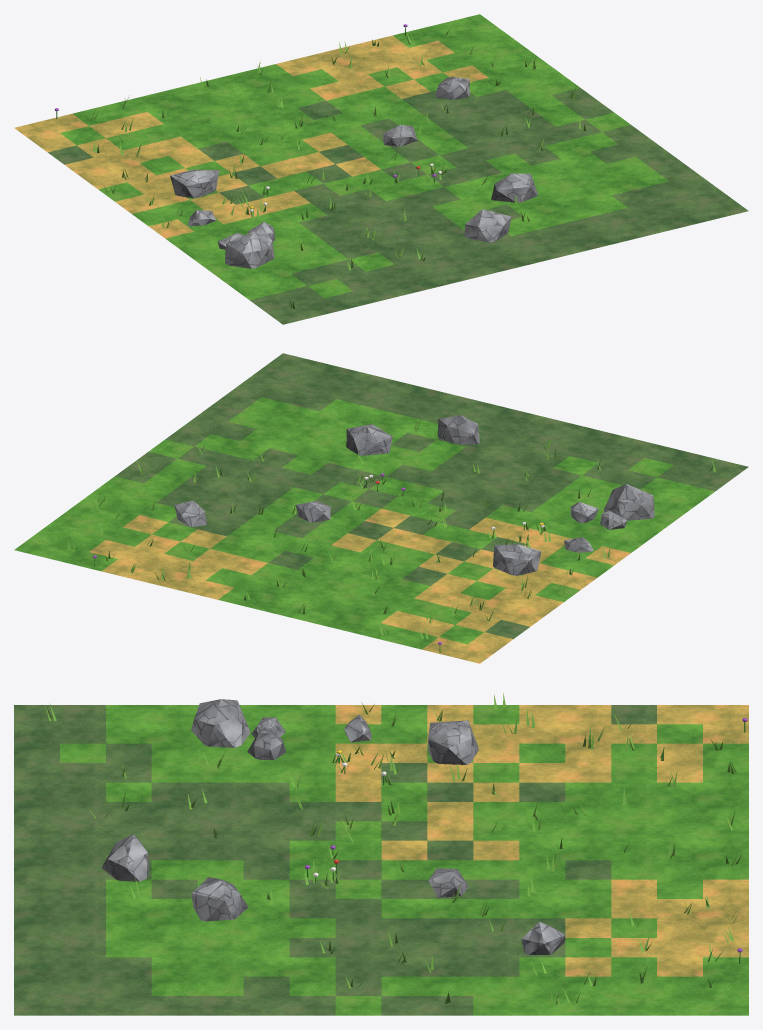
File: chunk_9_14.glb
The picture shows the model from 3 angles, top to bottom: view 1: azimuth 30°, elevation 25°; view 2: azimuth 150°, elevation 25°; view 3: azimuth 270°, elevation 25°; orthographic projection. The views are drawn at different scales.
Visible parts, largest first — view 1: chunk_9_14; view 2: chunk_9_14; view 3: chunk_9_14.
Part boxes in pixels (left/top/right/bottom): chunk_9_14: left=14, top=14, right=748, bottom=324; chunk_9_14: left=14, top=353, right=748, bottom=663; chunk_9_14: left=14, top=693, right=748, bottom=1015.
Size of the model in its own units: 16.01 by 1.38 by 16.
10 materials, 5 textured.
